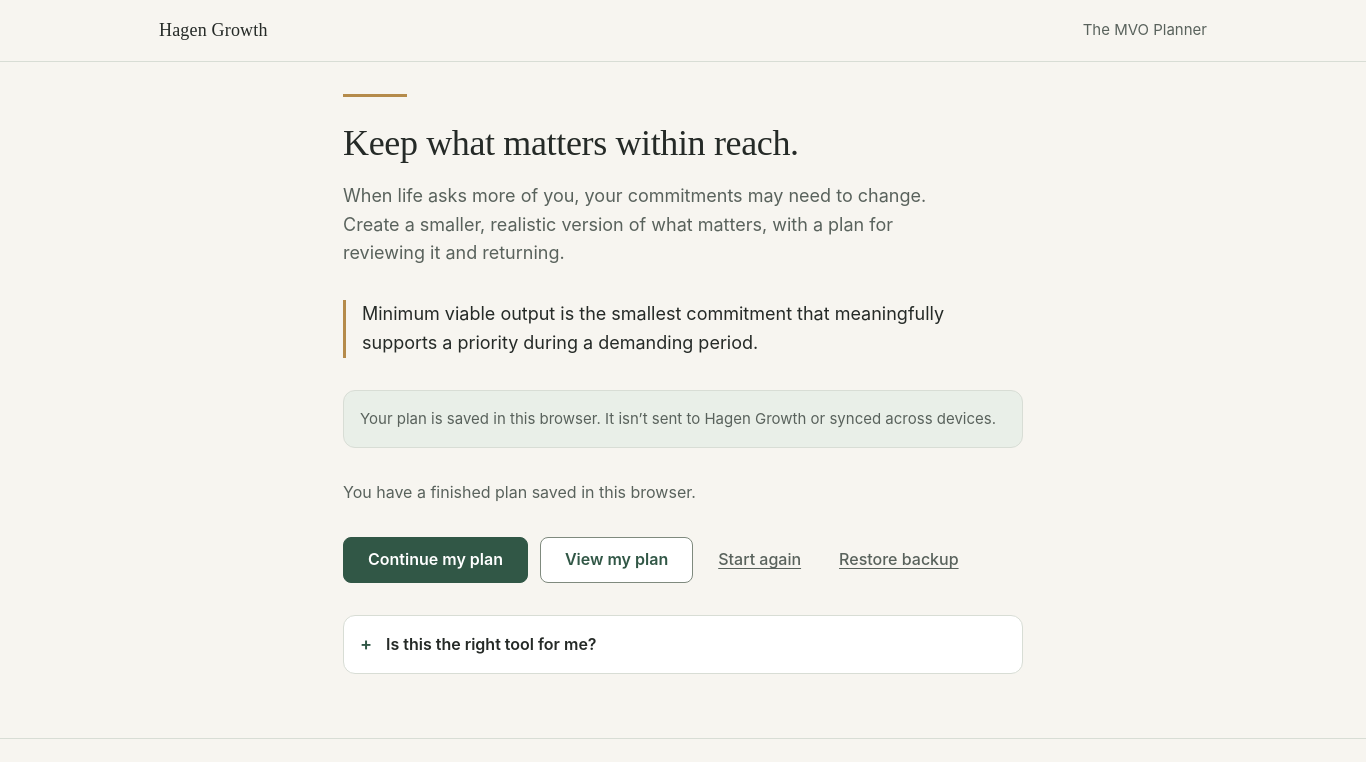
Test case: finished plan actions › copies a structured plain-text plan
This screenshot has width=1366, height=762.
Click the button "Continue my plan" at (436, 560), box [343, 537, 528, 583]
(page scrolled)
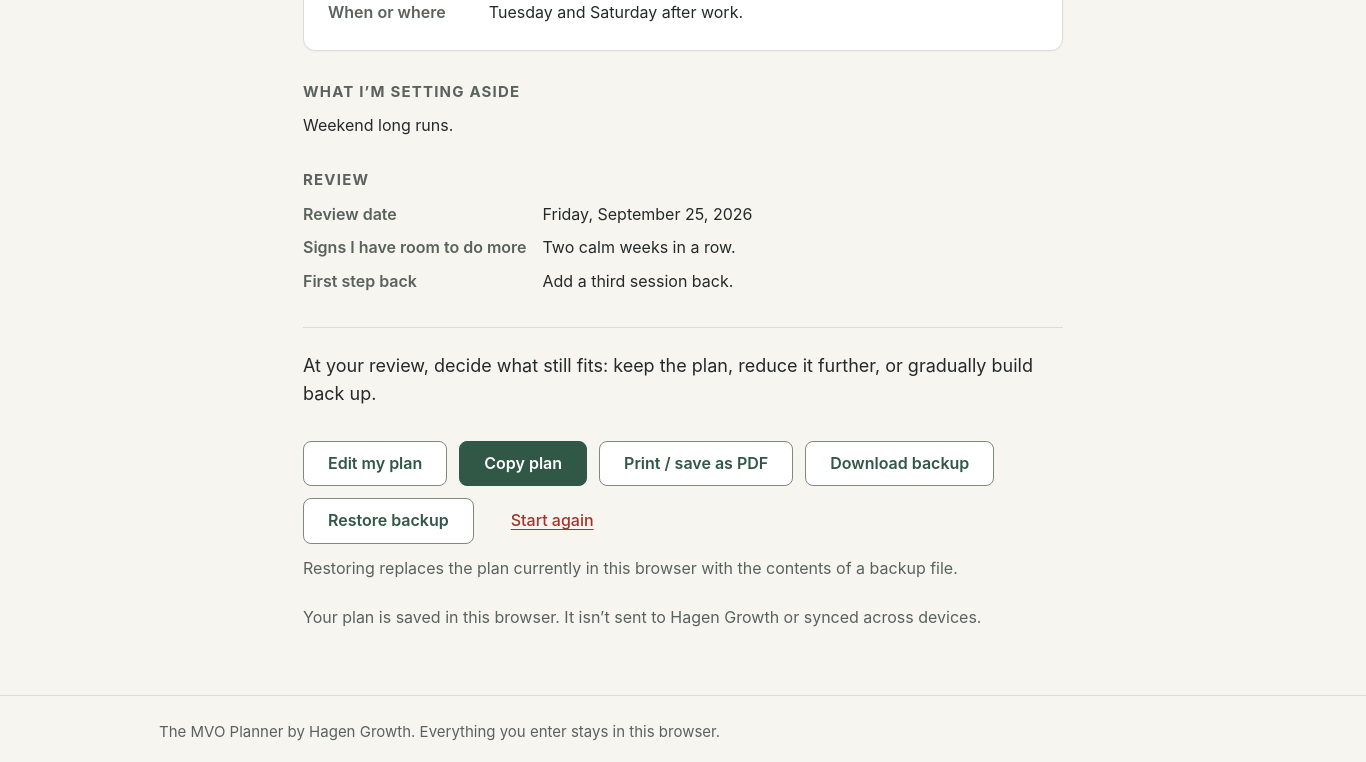
Click the button "Copy plan" at (523, 464), box [459, 441, 587, 486]
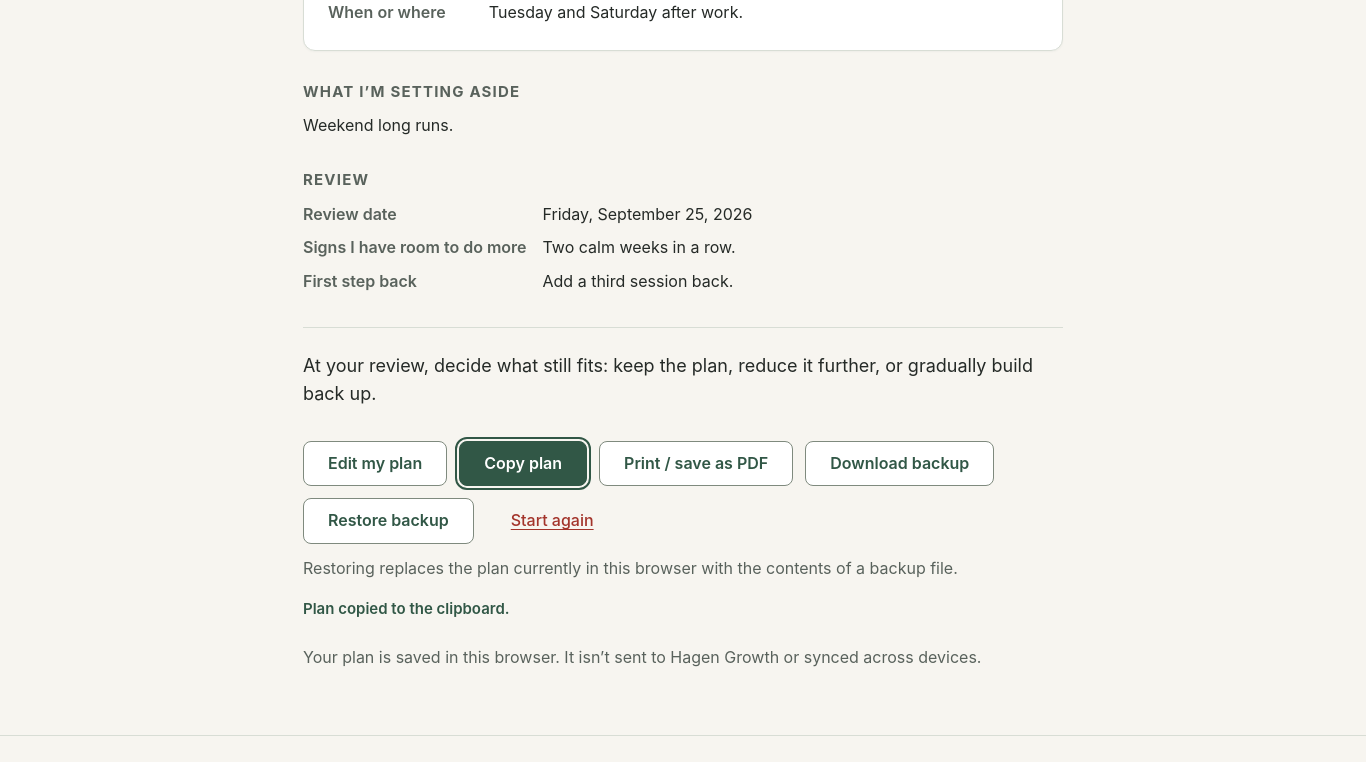
Check: the text "Plan copied to the clipboard." is shown, box [303, 599, 510, 618]
